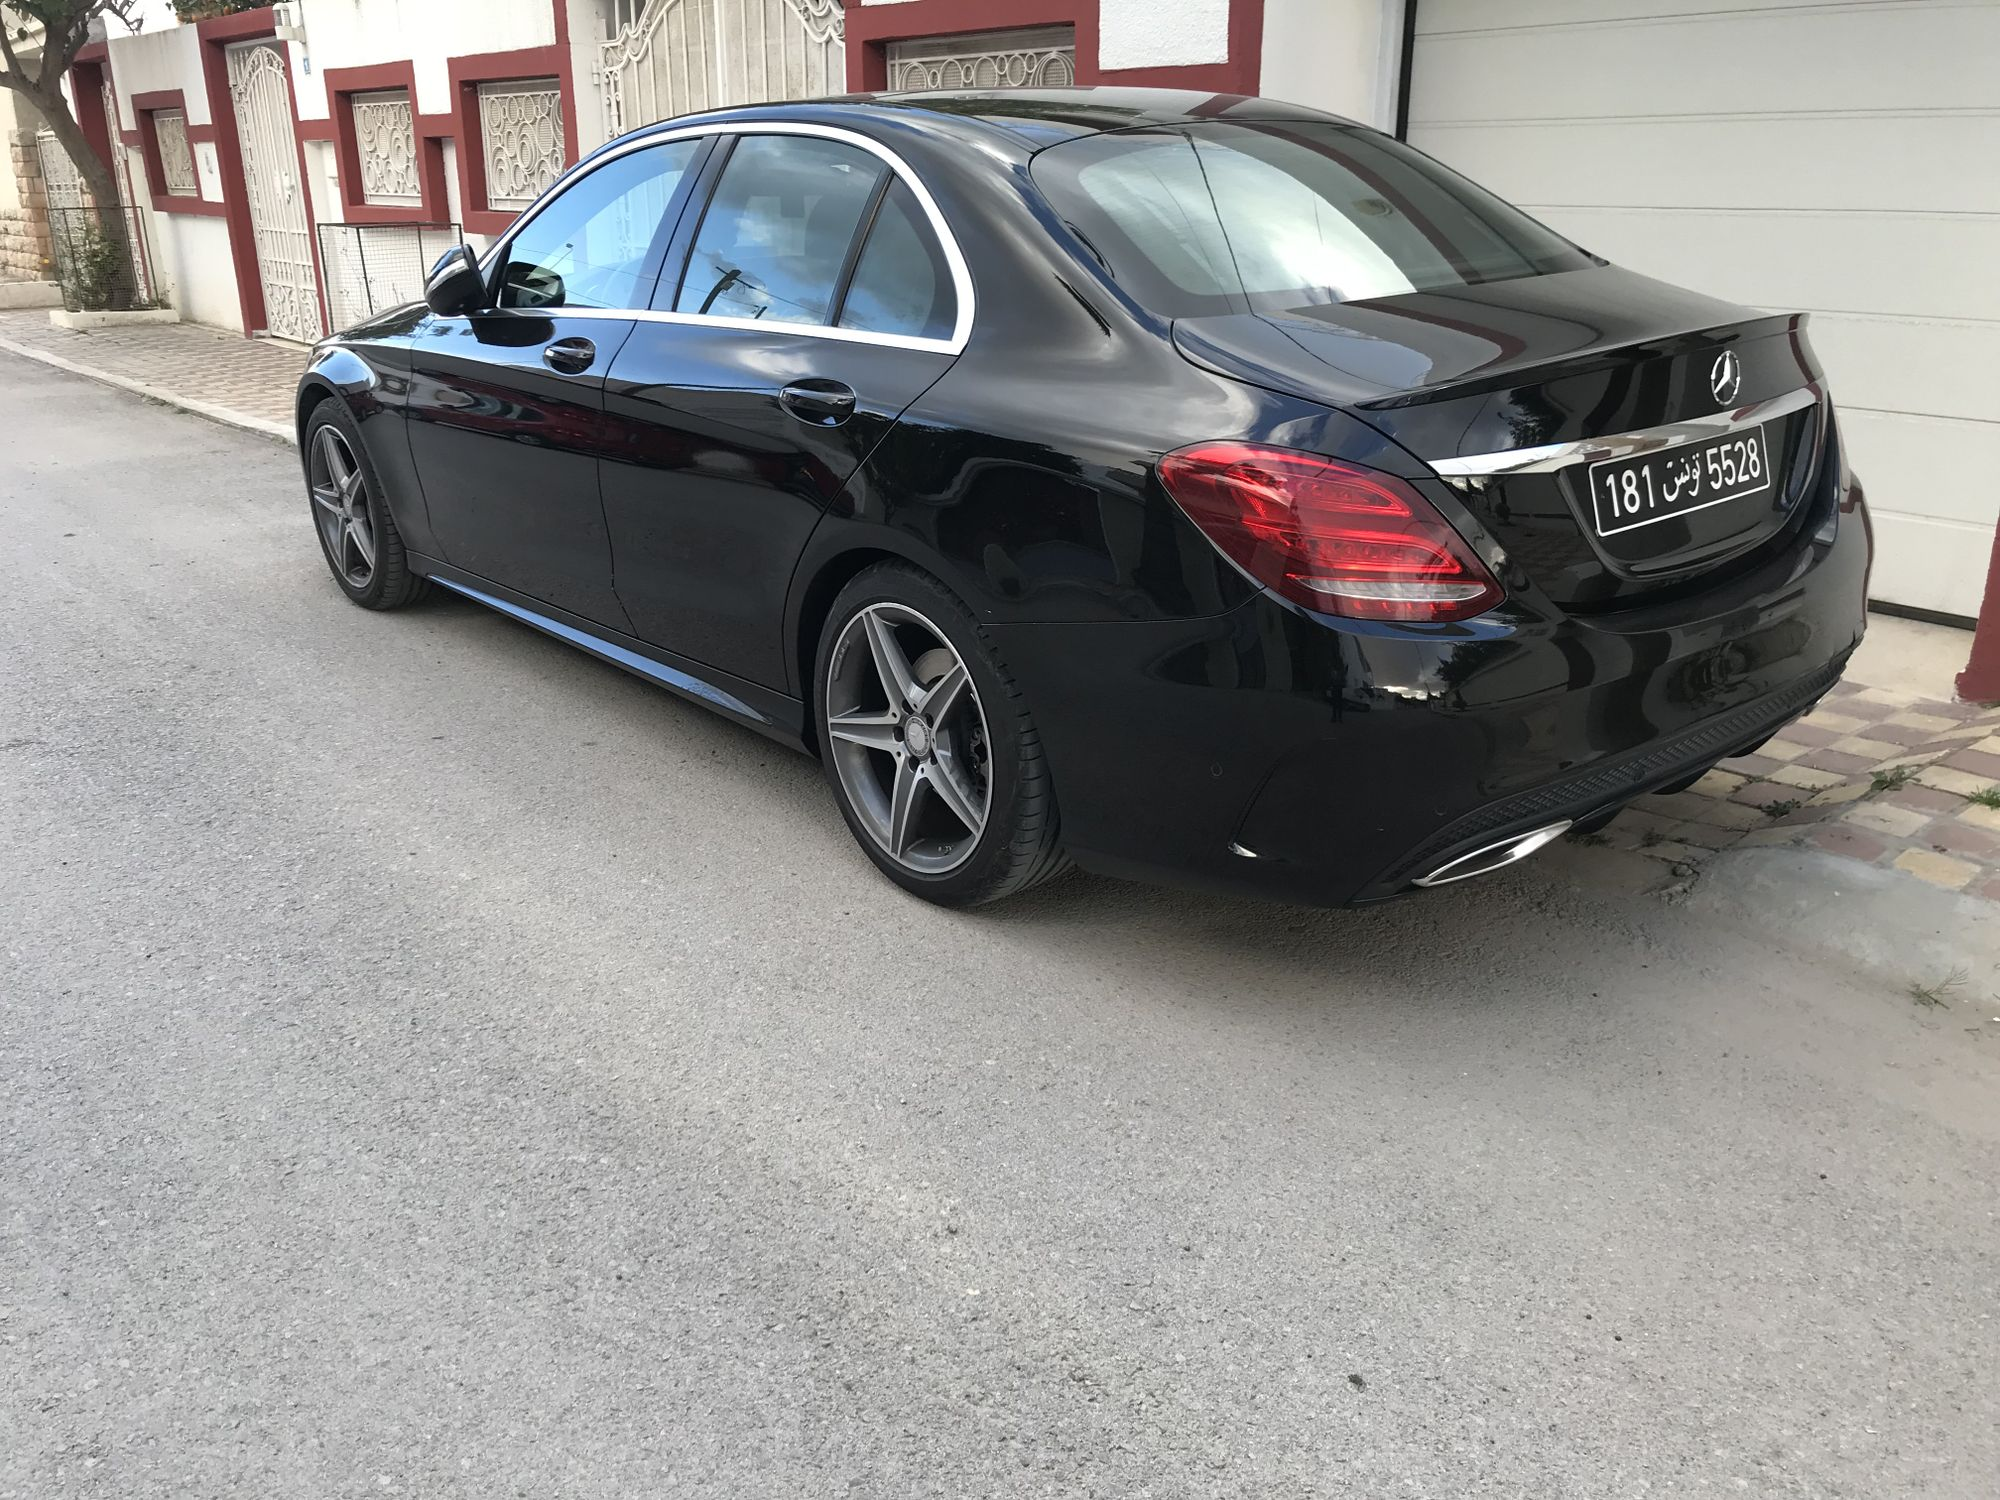LP: (1586, 423, 1772, 532)
